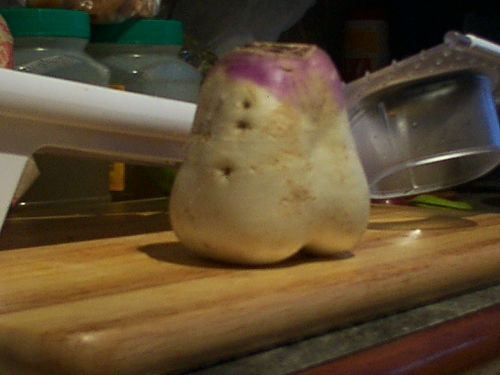turnip: (169, 39, 372, 265)
